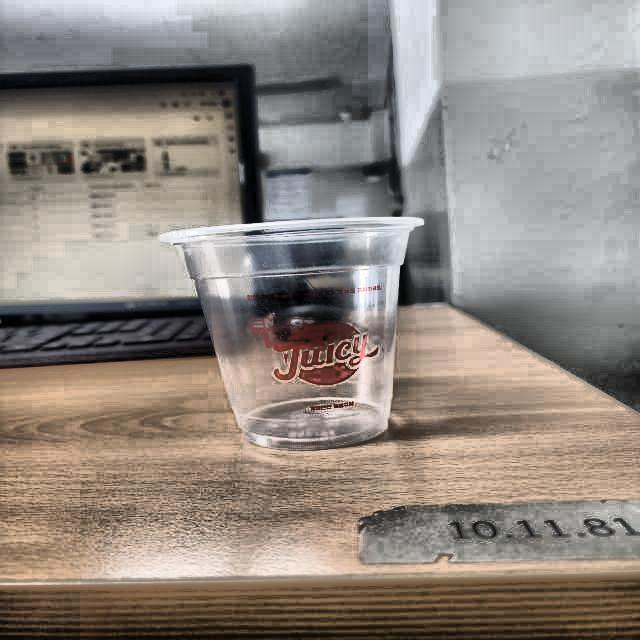plastic cup: (162, 215, 426, 448)
